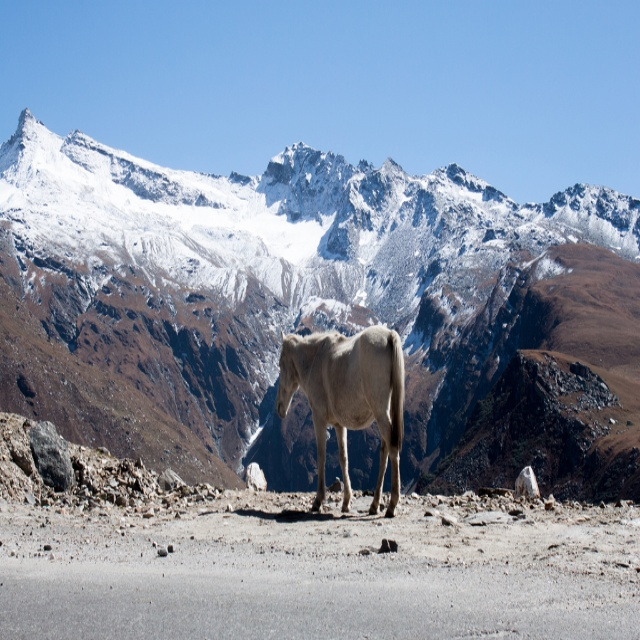Horse: (276, 326, 408, 516)
